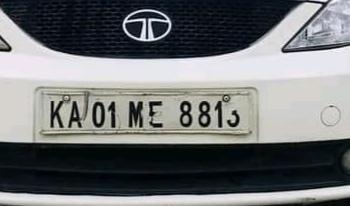0: (90, 98, 107, 129)
1: (212, 98, 225, 133), (106, 99, 121, 128)
3: (227, 98, 243, 133)
7: (47, 96, 65, 131)
8: (196, 96, 214, 132), (178, 97, 195, 131)
A: (67, 97, 84, 130)
E: (146, 96, 167, 132)
m: (127, 97, 146, 133)
